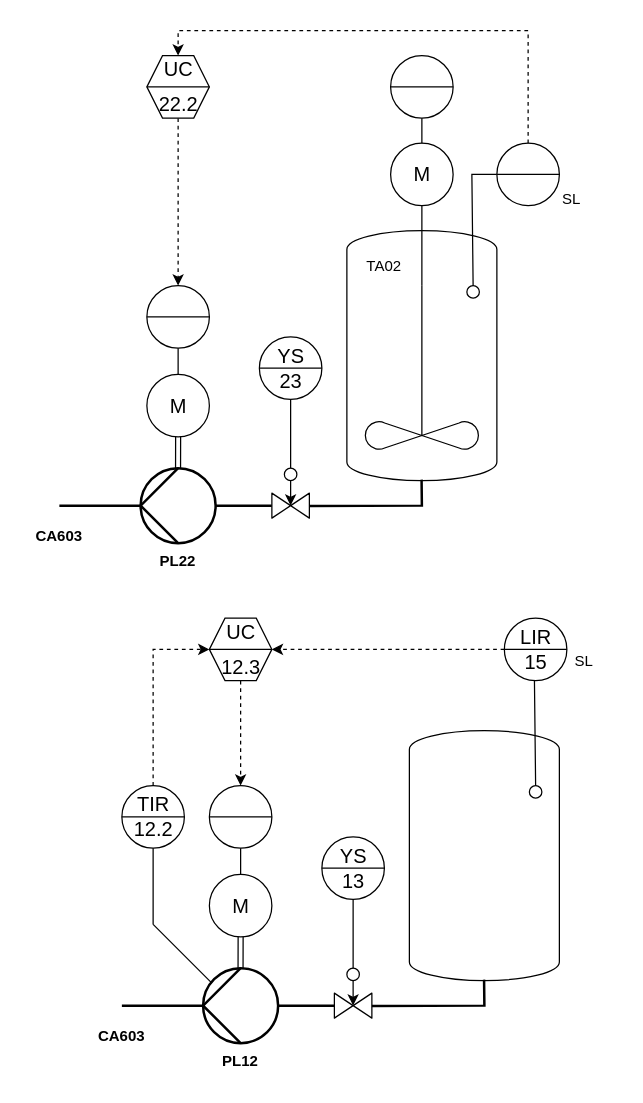
This 643x1103 diagram has some shape labels left out. The shapes that lost their labels are listed below. From the top down, each one's box as (x1, y1, x2, y2) in pixels, then its label:
(389, 54, 453, 118): NS 24
(496, 142, 559, 206): LIR 25
(146, 284, 209, 348): NS 22.1
(208, 784, 272, 848): NS 12.1
(408, 729, 559, 981): TA01
